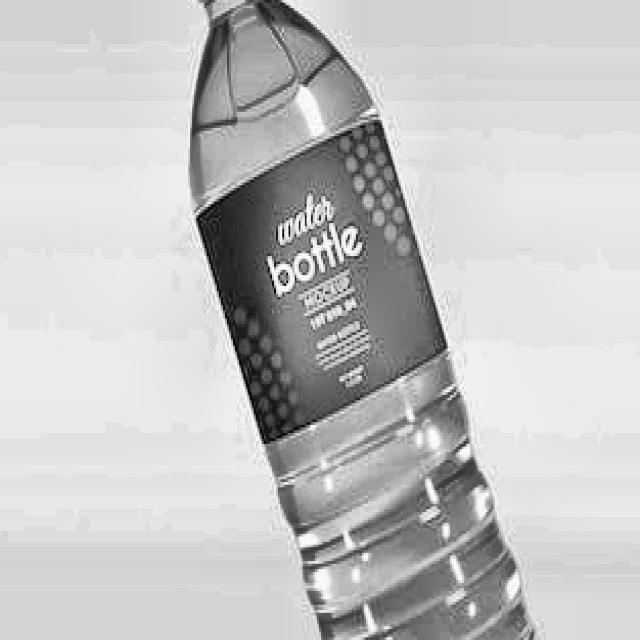bottle: (172, 0, 560, 640)
